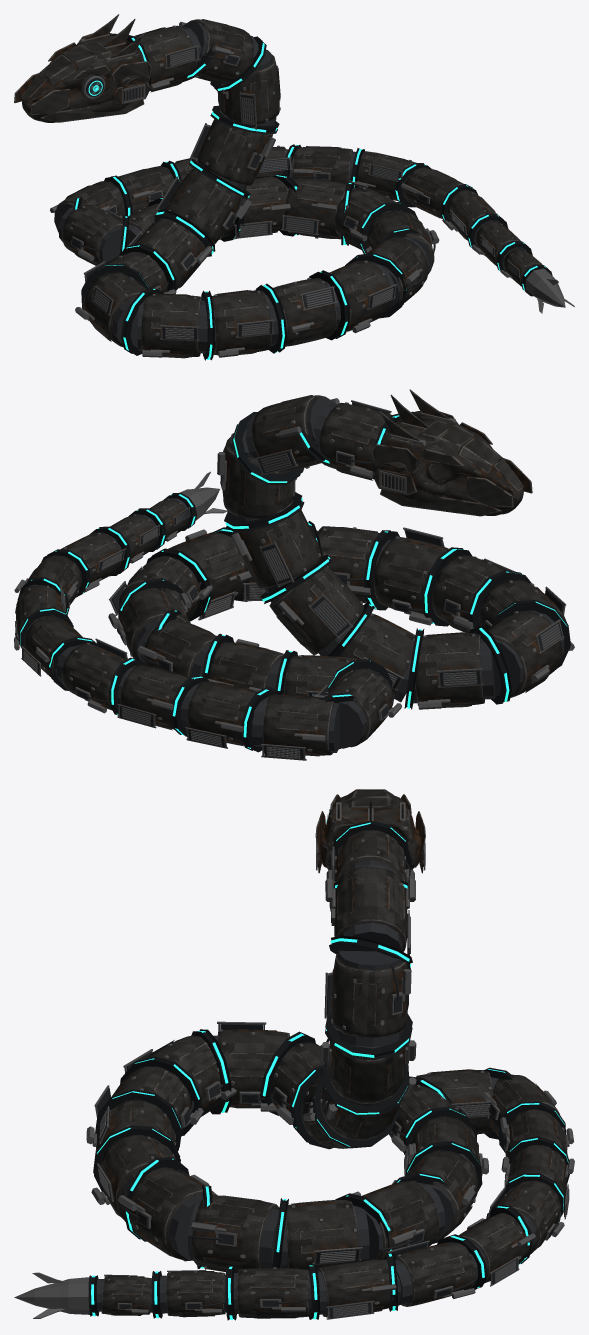
Rendered from snake-sectional-r1.glb.
3 renders of one model, top to bottom at view 1: azimuth 30°, elevation 25°; view 2: azimuth 150°, elevation 25°; view 3: azimuth 270°, elevation 25°, orthographic. The views are drawn at different scales.
Parts seen in each view (by area): view 1: Head, Segment_08, Segment_09, Segment_03, Tail, Segment_04, Segment_10, Segment_15, Segment_01, Segment_19, Segment_07, Segment_02 (+27 smaller); view 2: Head, Segment_06, Segment_20, Segment_04, Segment_01, Segment_07, Segment_03, Segment_10, Segment_00, Tail, Segment_21, Segment_19 (+37 smaller); view 3: Tail, Segment_02, Segment_01, Segment_13, Segment_14, Segment_12, Head, Segment_15, Segment_25, Segment_07, Segment_26, Segment_27 (+33 smaller).
Part boxes in pixels (bbox=[...]): Head: bbox=[14, 14, 151, 122]; Segment_08: bbox=[137, 293, 207, 358]; Segment_09: bbox=[203, 290, 278, 357]; Segment_03: bbox=[190, 110, 275, 190]; Tail: bbox=[471, 221, 574, 313]; Segment_04: bbox=[156, 168, 251, 244]; Segment_10: bbox=[273, 277, 340, 346]; Segment_15: bbox=[281, 177, 345, 239]; Segment_01: bbox=[179, 19, 258, 84]; Segment_19: bbox=[58, 204, 122, 265]; Segment_07: bbox=[75, 273, 146, 347]; Segment_02: bbox=[217, 49, 280, 129]; Head: bbox=[371, 389, 532, 516]; Segment_06: bbox=[409, 632, 495, 709]; Segment_20: bbox=[252, 694, 339, 760]; Segment_04: bbox=[269, 566, 364, 655]; Segment_01: bbox=[245, 395, 339, 475]; Segment_07: bbox=[487, 611, 564, 697]; Segment_03: bbox=[231, 499, 322, 593]; Segment_10: bbox=[374, 527, 449, 625]; Segment_00: bbox=[313, 400, 391, 480]; Tail: bbox=[110, 471, 227, 563]; Segment_21: bbox=[180, 681, 267, 748]; Segment_19: bbox=[317, 669, 401, 748]; Tail: bbox=[14, 1270, 226, 1318]; Segment_02: bbox=[324, 950, 411, 1046]; Segment_01: bbox=[325, 863, 415, 955]; Segment_13: bbox=[188, 1195, 279, 1272]; Segment_14: bbox=[278, 1199, 369, 1269]; Segment_12: bbox=[118, 1167, 217, 1261]; Head: bbox=[315, 789, 425, 873]; Segment_15: bbox=[352, 1180, 445, 1259]; Segment_25: bbox=[387, 1240, 477, 1306]; Segment_07: bbox=[213, 1021, 289, 1111]; Segment_26: bbox=[317, 1259, 401, 1319]; Segment_27: bbox=[233, 1267, 311, 1318].
Bounding box in the file's own units: 7.73 × 4.66 × 6.84.
Materials: 11 (2 with a texture image).
